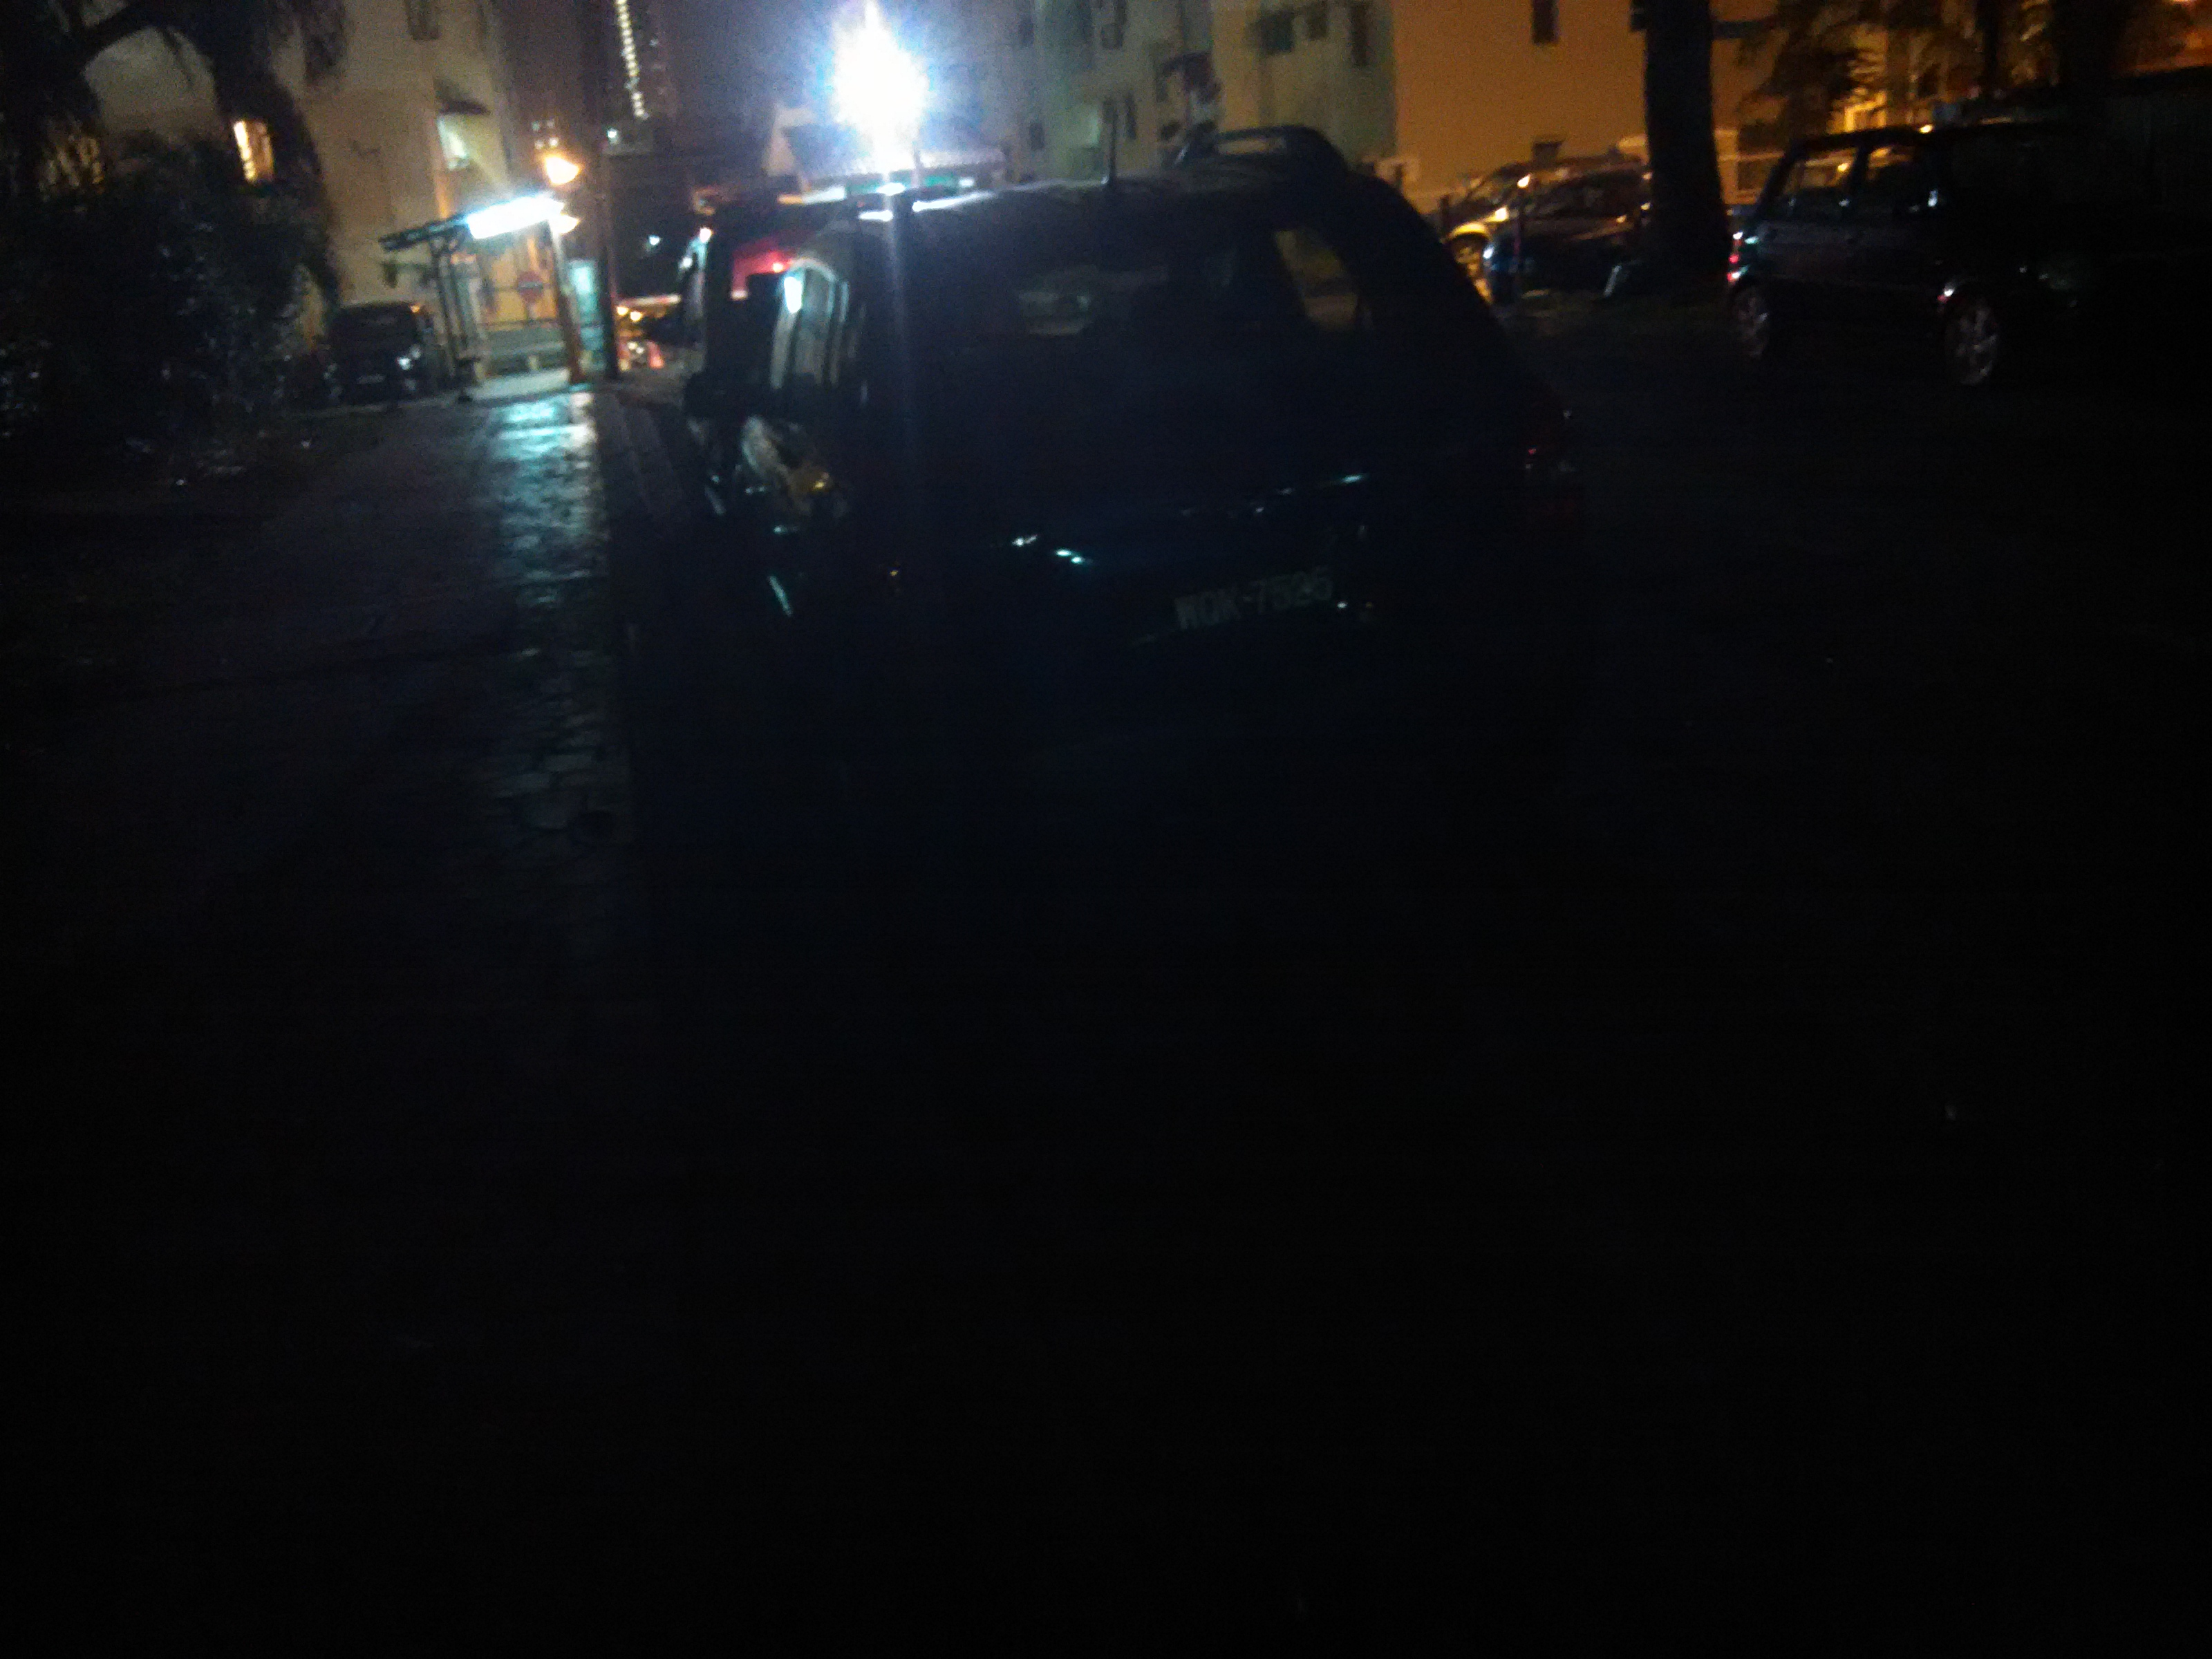car: (690, 132, 1632, 868)
